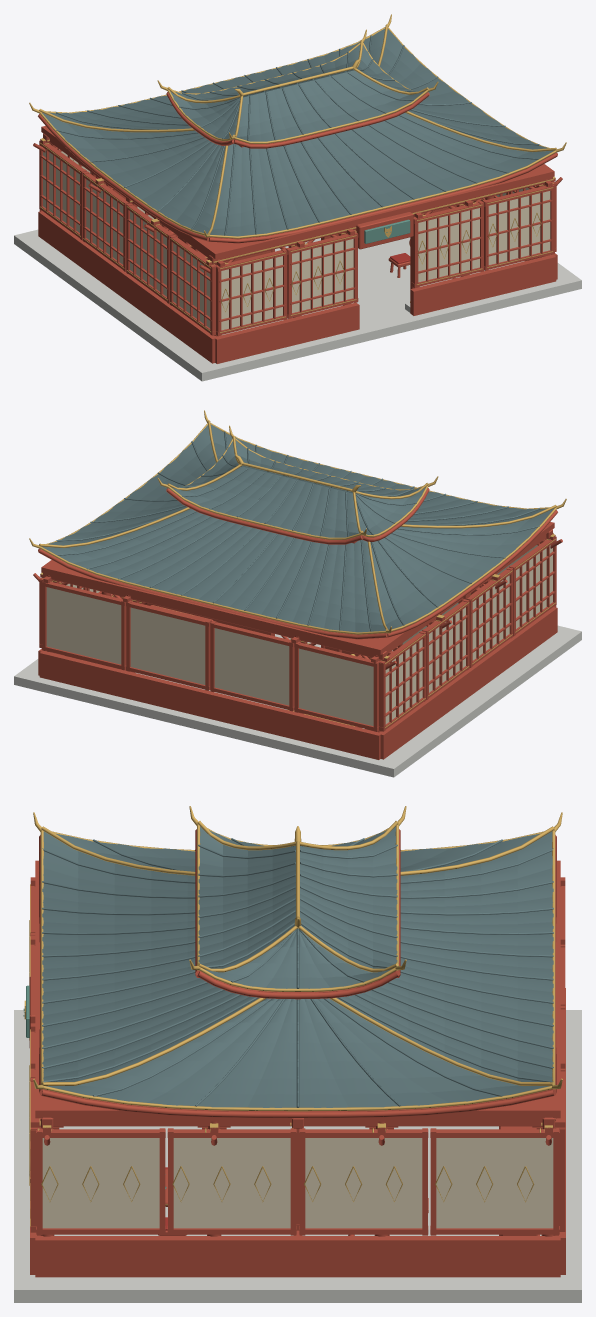
The model's file is residence_near.glb.
3 renders of one model, top to bottom at view 1: azimuth 30°, elevation 25°; view 2: azimuth 150°, elevation 25°; view 3: azimuth 270°, elevation 25°, orthographic. The views are drawn at different scales.
Visible parts, largest first — view 1: residence_near_Roof_Roof, residence_near_Walls_Timber, residence_near_Walls_Paper, residence_near_Floor_Stone, residence_near_Roof_Gold, residence_near_Roof_Timber, residence_near_Ceiling_Timber, residence_near_Posts_Timber, residence_near_Walls_Gold, residence_near_Posts_Gold, residence_near_Walls_Jade; view 2: residence_near_Roof_Roof, residence_near_Walls_Timber, residence_near_Walls_Paper, residence_near_Floor_Stone, residence_near_Roof_Gold, residence_near_Roof_Timber, residence_near_Ceiling_Timber, residence_near_Posts_Timber, residence_near_Walls_Gold; view 3: residence_near_Roof_Roof, residence_near_Walls_Paper, residence_near_Walls_Timber, residence_near_Floor_Stone, residence_near_Roof_Gold, residence_near_Roof_Timber, residence_near_Posts_Timber, residence_near_Ceiling_Timber, residence_near_Walls_Gold.
Part boxes in pixels (bbox=[...]): residence_near_Roof_Roof: bbox=[42, 28, 553, 236]; residence_near_Walls_Timber: bbox=[38, 138, 557, 363]; residence_near_Walls_Paper: bbox=[43, 149, 550, 330]; residence_near_Floor_Stone: bbox=[14, 229, 581, 381]; residence_near_Roof_Gold: bbox=[29, 14, 566, 238]; residence_near_Roof_Timber: bbox=[38, 92, 557, 243]; residence_near_Ceiling_Timber: bbox=[41, 126, 554, 258]; residence_near_Posts_Timber: bbox=[33, 133, 562, 336]; residence_near_Walls_Gold: bbox=[40, 143, 553, 332]; residence_near_Posts_Gold: bbox=[40, 138, 555, 302]; residence_near_Walls_Jade: bbox=[364, 219, 410, 243]; residence_near_Roof_Roof: bbox=[42, 424, 553, 632]; residence_near_Walls_Timber: bbox=[38, 534, 557, 759]; residence_near_Walls_Paper: bbox=[46, 545, 552, 725]; residence_near_Floor_Stone: bbox=[14, 625, 581, 777]; residence_near_Roof_Gold: bbox=[29, 410, 566, 634]; residence_near_Roof_Timber: bbox=[38, 488, 557, 639]; residence_near_Ceiling_Timber: bbox=[41, 522, 554, 654]; residence_near_Posts_Timber: bbox=[33, 529, 562, 732]; residence_near_Walls_Gold: bbox=[112, 539, 555, 727]; residence_near_Roof_Roof: bbox=[42, 826, 553, 1107]; residence_near_Walls_Paper: bbox=[42, 1138, 553, 1228]; residence_near_Walls_Timber: bbox=[29, 886, 565, 1277]; residence_near_Floor_Stone: bbox=[14, 1010, 581, 1302]; residence_near_Roof_Gold: bbox=[33, 806, 562, 1111]; residence_near_Roof_Timber: bbox=[39, 829, 556, 1118]; residence_near_Posts_Timber: bbox=[30, 877, 565, 1236]; residence_near_Ceiling_Timber: bbox=[35, 860, 560, 1118]; residence_near_Walls_Gold: bbox=[24, 884, 534, 1226].
Bounding box in the file's own units: 14 × 6.78 × 12.
